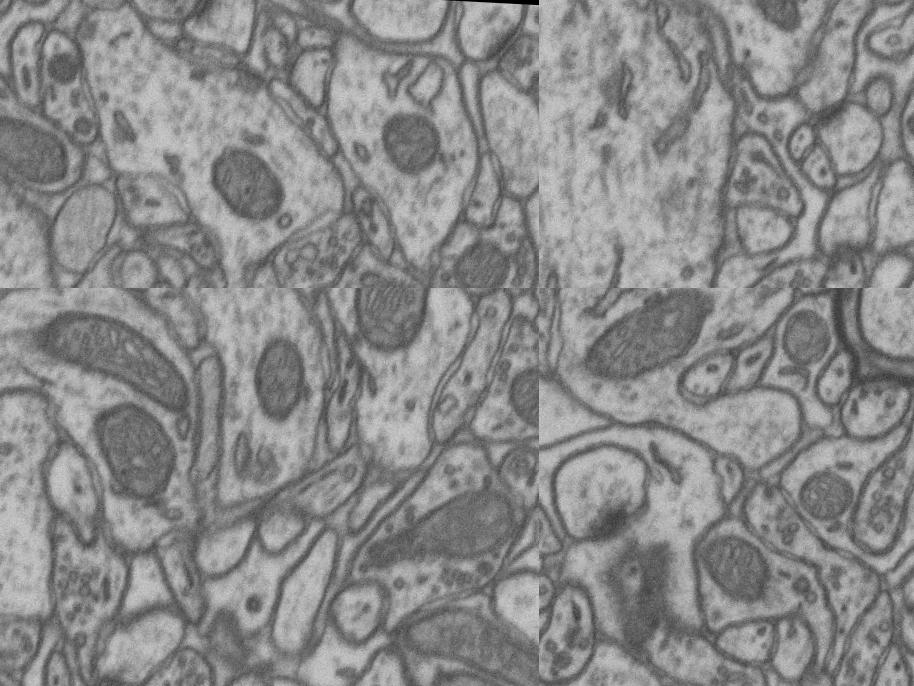mitochondria: (33, 308, 202, 418), (360, 478, 528, 582), (578, 288, 720, 394), (388, 597, 539, 686), (80, 394, 183, 506), (202, 140, 297, 234), (693, 523, 780, 613), (0, 102, 79, 194), (348, 288, 439, 361), (377, 105, 454, 189), (247, 328, 312, 426), (790, 460, 864, 535), (773, 304, 843, 383), (444, 229, 528, 288), (426, 658, 539, 686), (501, 357, 539, 435), (37, 42, 90, 94), (740, 0, 803, 33)
